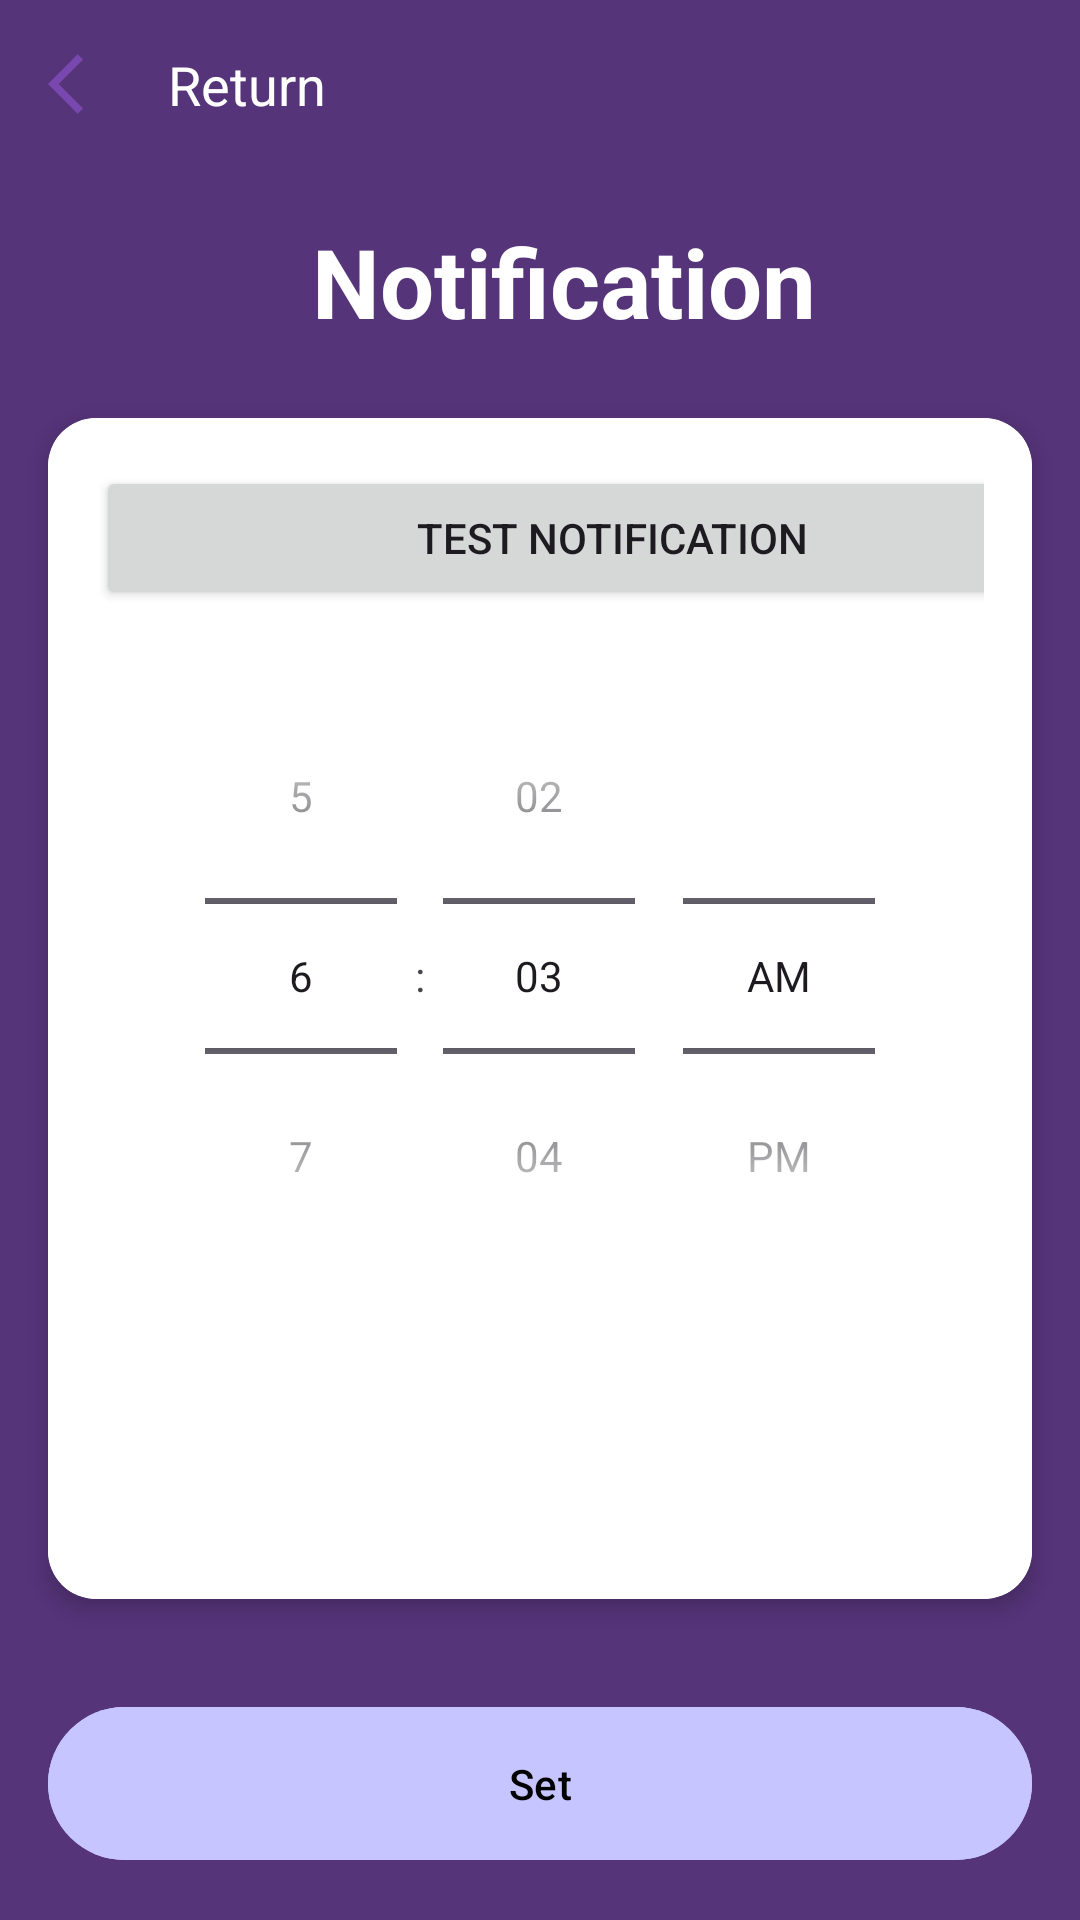

Where to tap for icons on this 1080px x 1920px app screen, as (x,y):
Back: (65,84)
